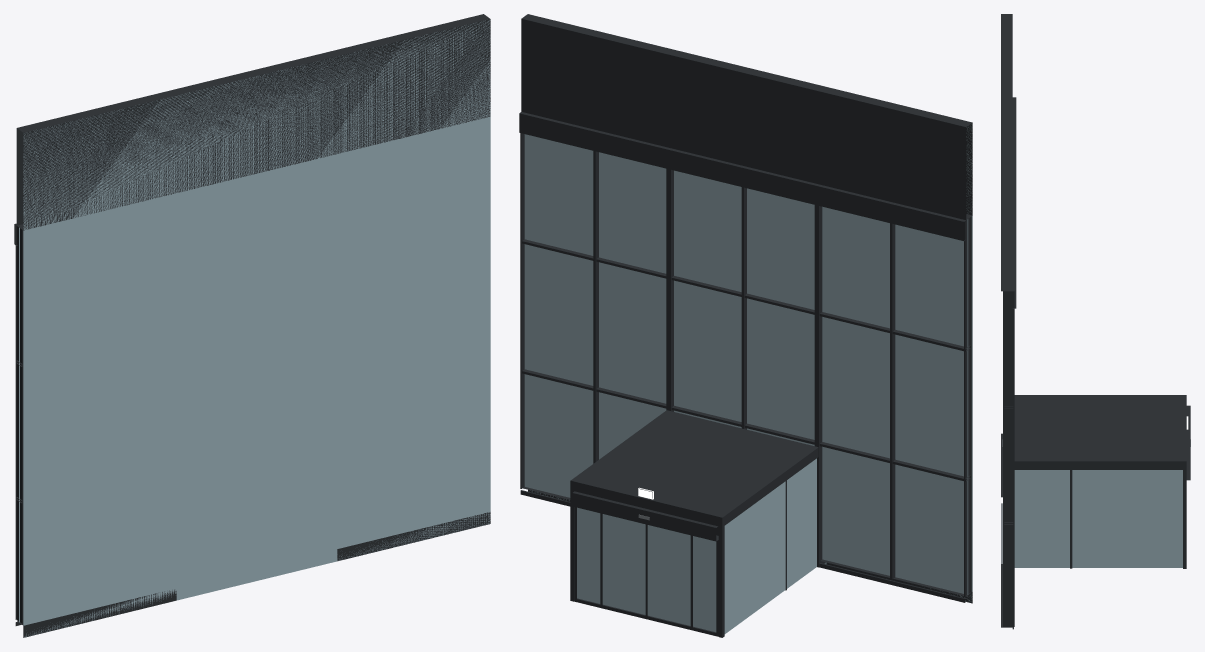
Rendered from terminal_facade_door.glb.
3 renders of one model, left to right at view 1: azimuth 30°, elevation 25°; view 2: azimuth 150°, elevation 25°; view 3: azimuth 270°, elevation 25°, orthographic. The views are drawn at different scales.
Parts seen in each view (by area): view 1: terminal_facade_door_lodfar, terminal_facade_door; view 2: terminal_facade_door, terminal_facade_door_lodfar; view 3: terminal_facade_door.
Part boxes in pixels (x1,y1,x2,y2): terminal_facade_door_lodfar: (23,20,490,637); terminal_facade_door: (14,14,490,637); terminal_facade_door: (519,14,972,637); terminal_facade_door_lodfar: (529,124,972,602); terminal_facade_door: (1001,14,1190,629).
Bounding box in the file's own units: 12 × 12.4 × 4.96.
